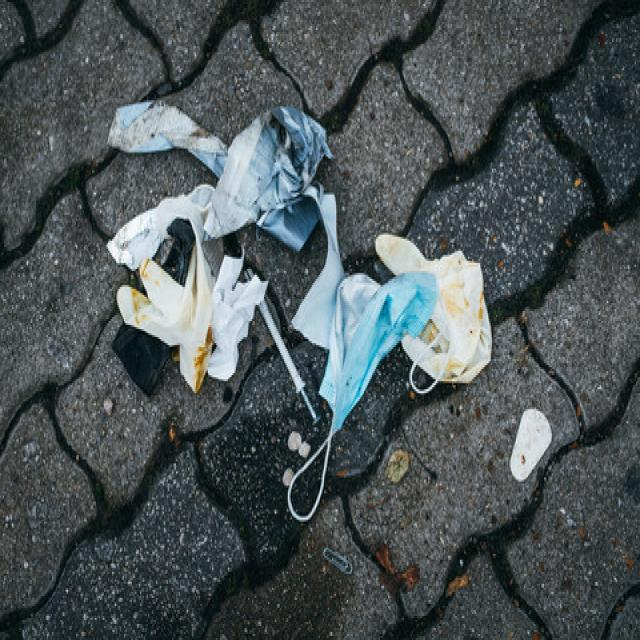non-organic waste: (283, 262, 453, 524)
